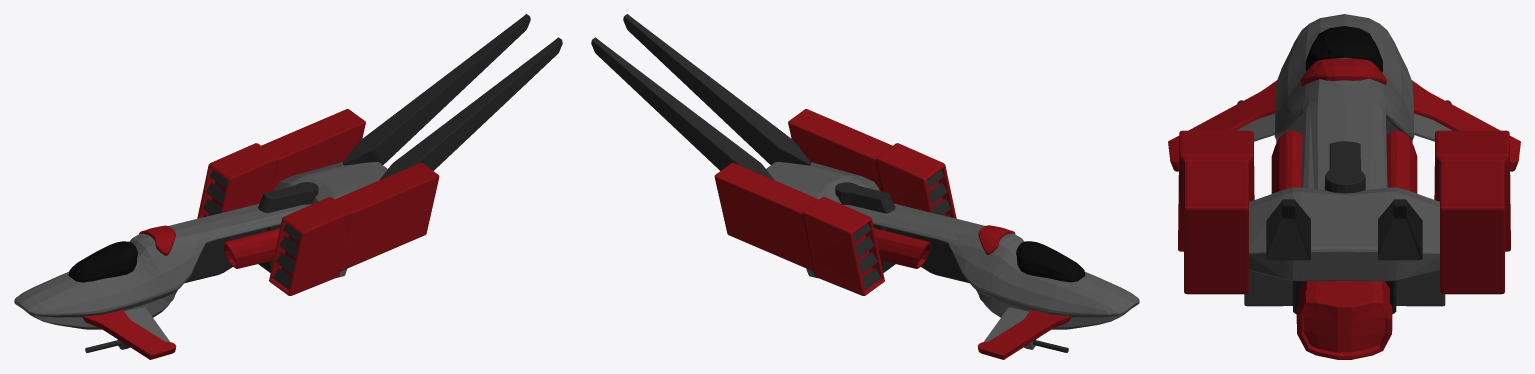
Rendered from fga_corvette3_r.glb.
3 renders of one model, left to right at view 1: azimuth 30°, elevation 25°; view 2: azimuth 150°, elevation 25°; view 3: azimuth 270°, elevation 25°, orthographic. The views are drawn at different scales.
Parts seen in each view (by area): view 1: Corvette_03; view 2: Corvette_03; view 3: Corvette_03.
Part boxes in pixels (bbox=[...]): Corvette_03: bbox=[14, 14, 562, 359]; Corvette_03: bbox=[591, 14, 1139, 359]; Corvette_03: bbox=[1168, 14, 1520, 359].
Size of the model in its own units: 3788 by 1310 by 1267.
Materials: 1 (1 with a texture image).
